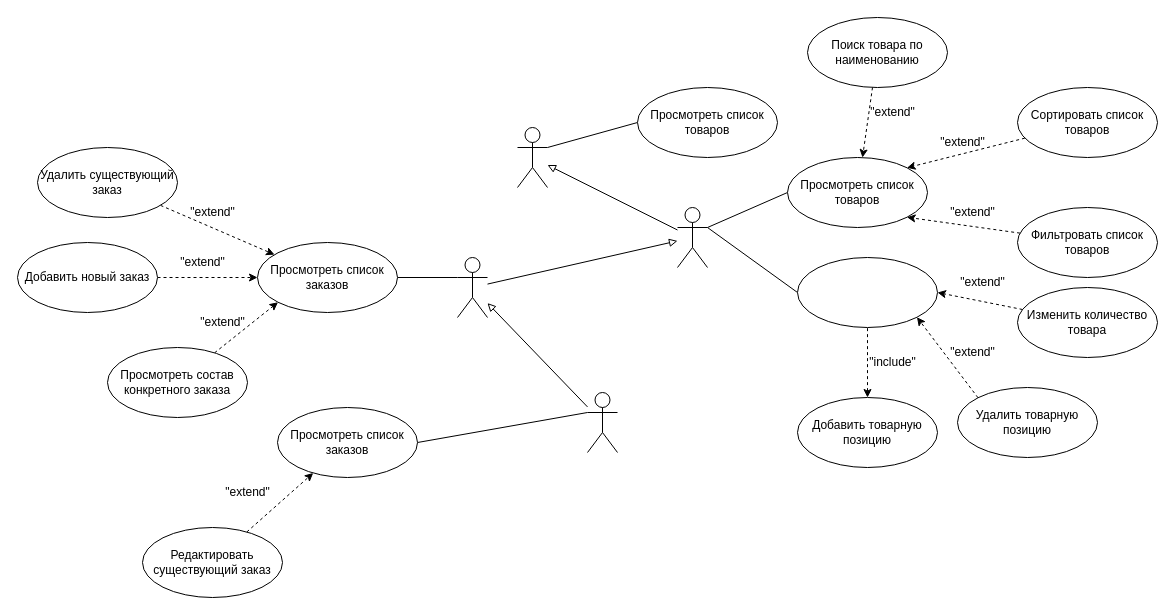
Some shapes in this 1175 by 615 pixel diagram are drawn without their labels. Each missing label, with the box of its shape:
Авторизованный пользователь: (676, 206, 708, 268)
Администратор: (586, 392, 618, 452)
Менеджер: (456, 256, 488, 318)
Неавторизованный пользователь: (516, 126, 548, 188)
Оформить заказ: (796, 256, 938, 328)
